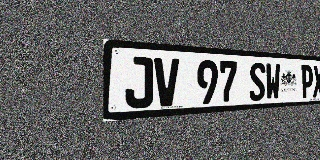7: (218, 61, 237, 103)
9: (197, 60, 218, 104)
J: (125, 56, 153, 109)
P: (301, 65, 313, 98)
S: (249, 62, 265, 101)
V: (154, 57, 179, 107)
W: (266, 63, 280, 100)
X: (313, 65, 320, 97)
